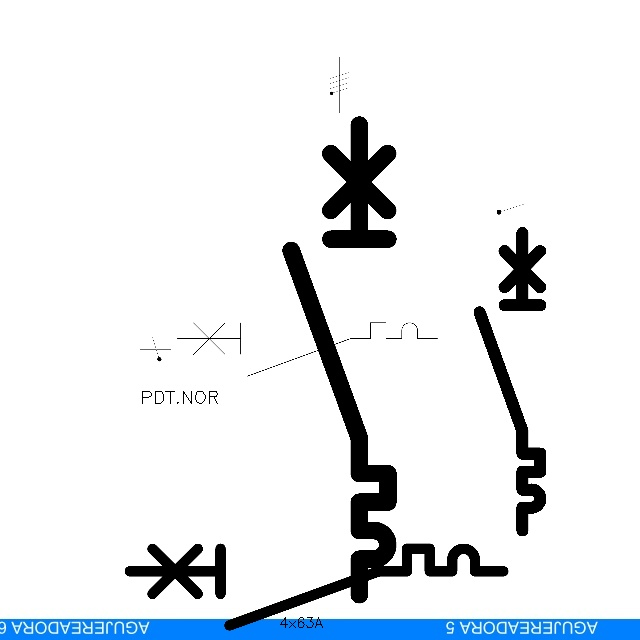interruptor_termomagnetico: (279, 112, 400, 606), (120, 539, 513, 635), (472, 225, 548, 538), (170, 316, 443, 382)
